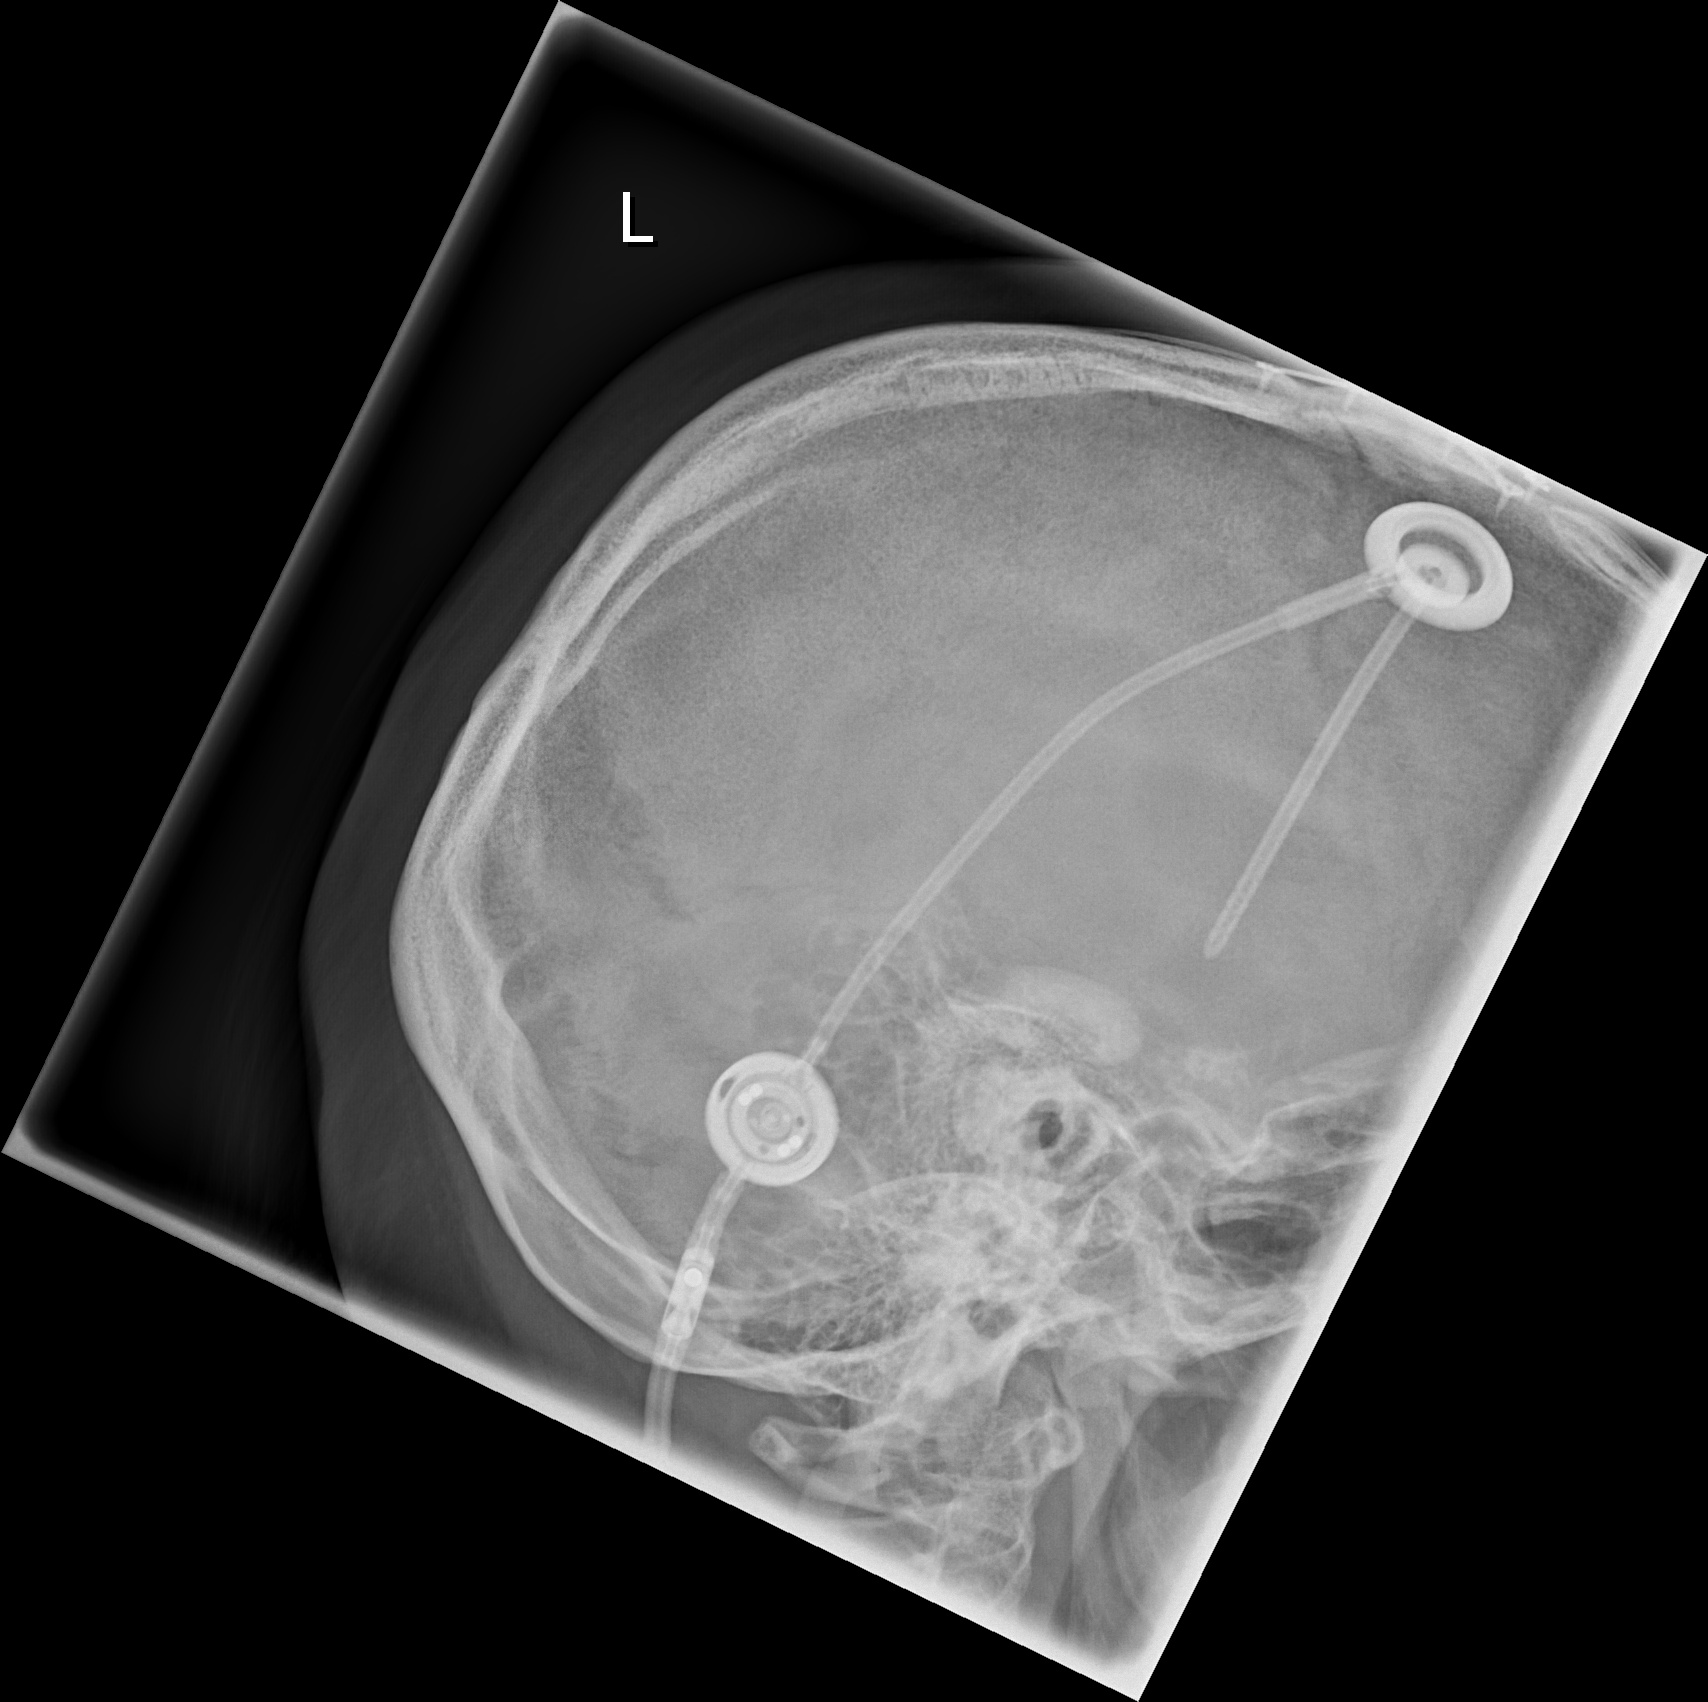proGAV 2.0: (701, 1044, 843, 1188)
proGAV Gravitationseinheit: (648, 1242, 722, 1348)
